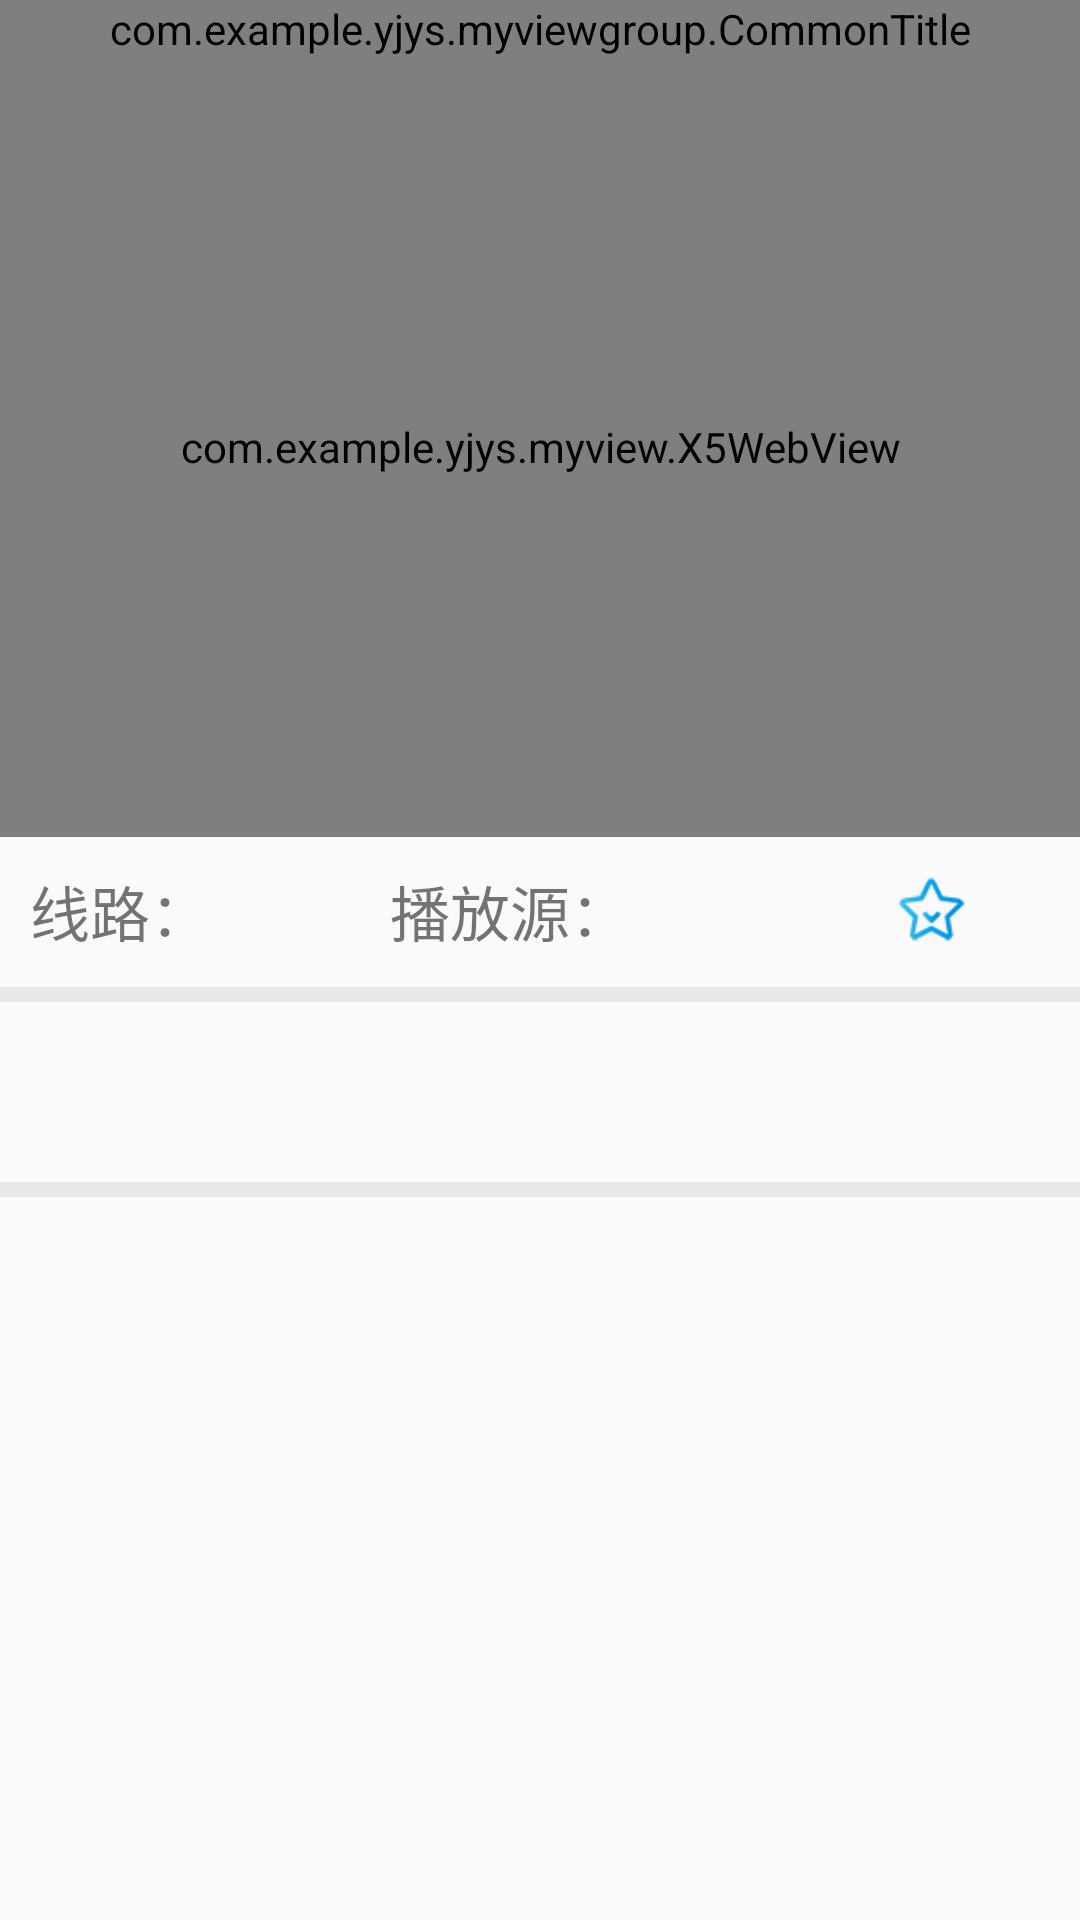

Screen size 1080px x 1920px. Icon name, then its box in pixels as (x1, y1, x2, y2):
shouchang: (899, 877, 965, 941)
